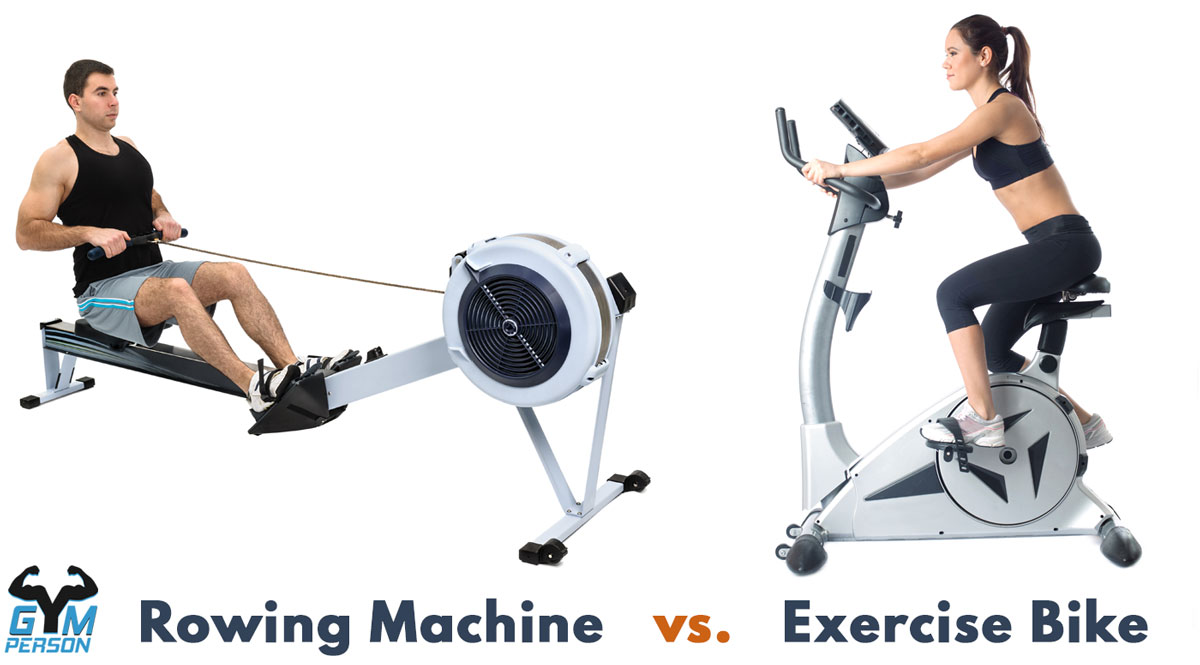gym_bike: (727, 104, 1155, 593)
